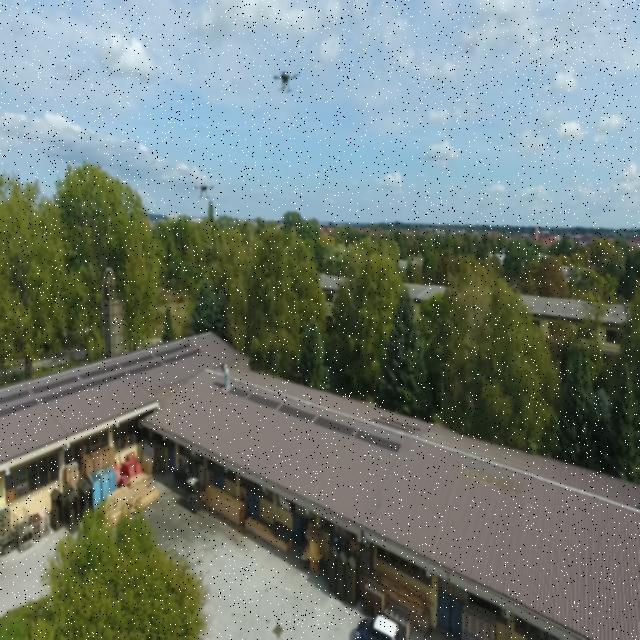UAV: (268, 66, 302, 92), (192, 180, 219, 202)
